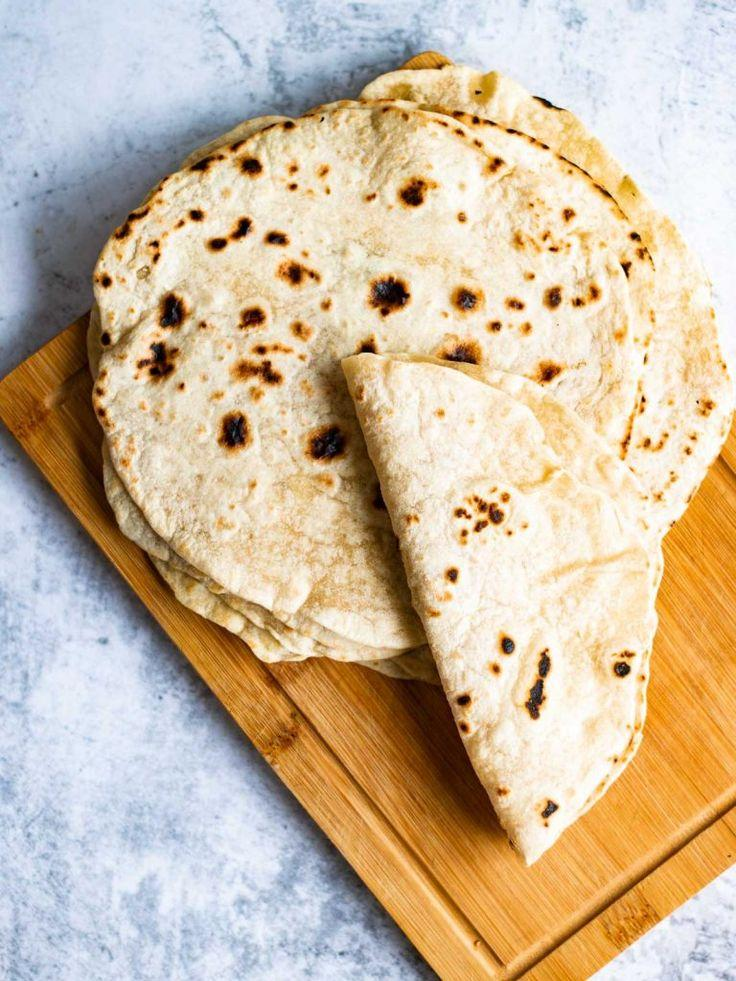roti phulka: (80, 60, 736, 695)
